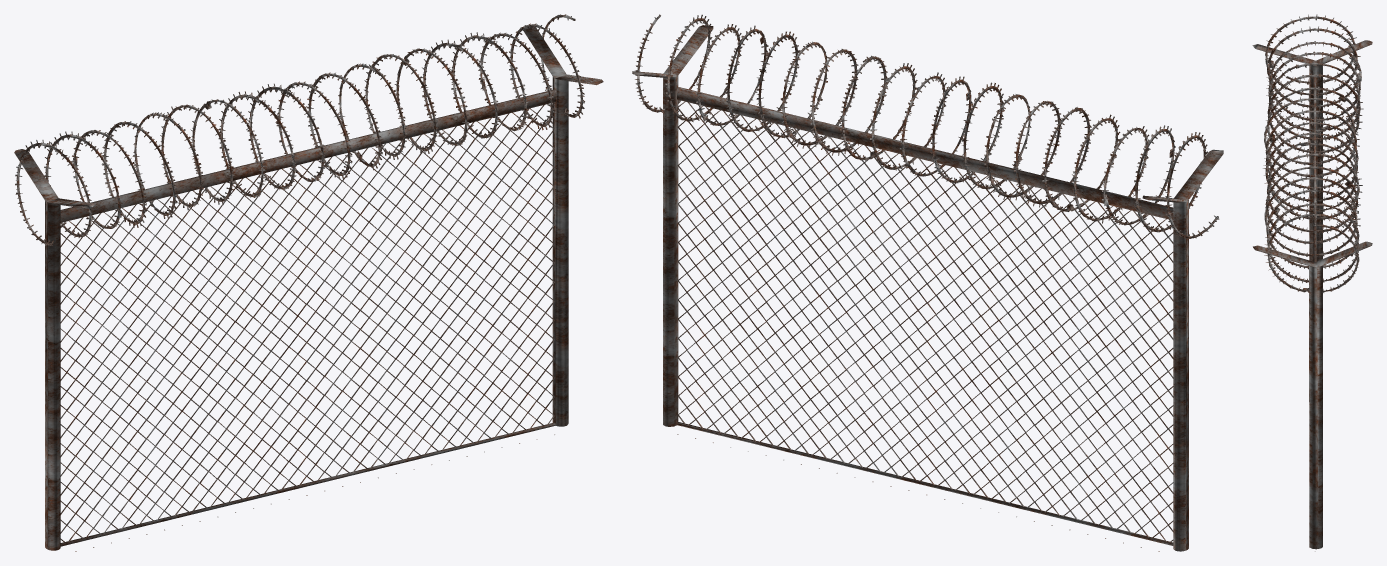
File: fance.obj
3 views of the same model, side by side, from view 1: azimuth 30°, elevation 25°; view 2: azimuth 150°, elevation 25°; view 3: azimuth 270°, elevation 25° (orthographic). The views are drawn at different scales.
Parts seen in each view (by area): view 1: Cylinder277_Untitled.025; view 2: Cylinder277_Untitled.025; view 3: Cylinder277_Untitled.025.
Part boxes in pixels (bbox=[...]): Cylinder277_Untitled.025: bbox=[14, 14, 603, 551]; Cylinder277_Untitled.025: bbox=[632, 14, 1223, 551]; Cylinder277_Untitled.025: bbox=[1252, 14, 1372, 551].
Size of the model in its own units: 8.31 by 6.09 by 1.96.
